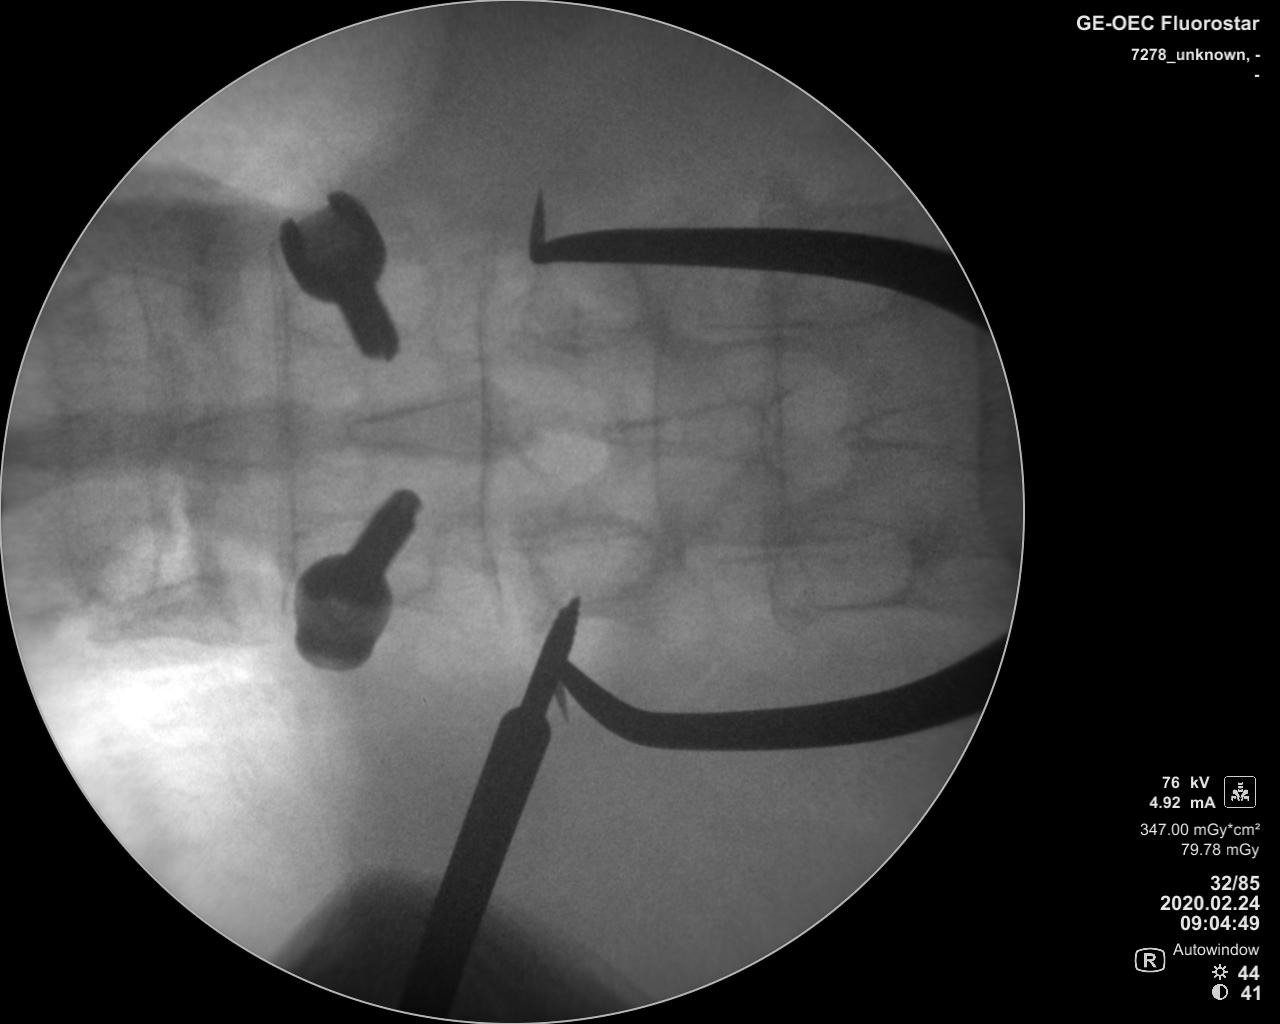eyes: (285, 250, 434, 341), (284, 518, 437, 602), (785, 519, 912, 613), (531, 518, 659, 607), (544, 264, 643, 344)
line: (470, 239, 507, 605), (265, 245, 301, 582), (650, 275, 678, 563), (764, 278, 790, 546)
nose: (334, 385, 536, 465), (582, 394, 773, 470), (831, 393, 1009, 464), (11, 408, 176, 478), (174, 399, 322, 474)
